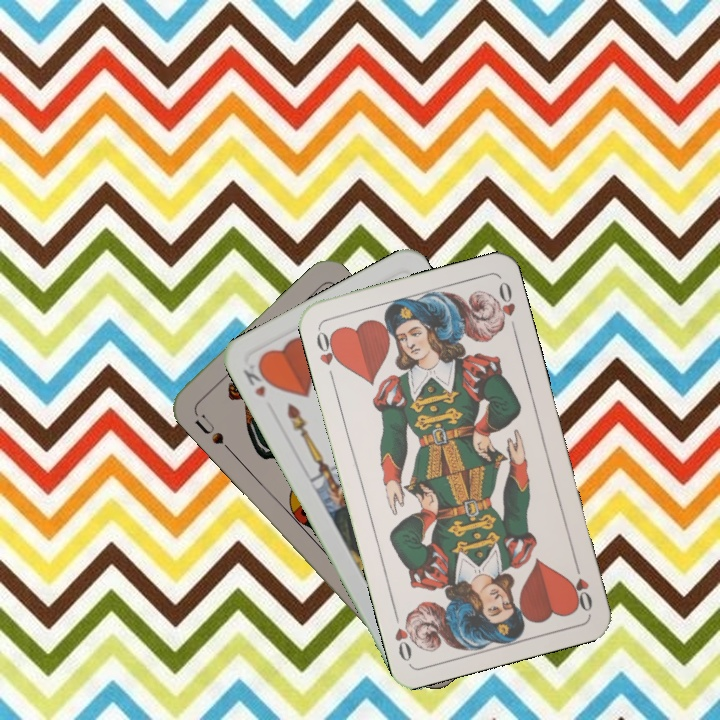HK: (239, 358, 275, 401)
HO: (312, 325, 343, 383), (566, 557, 595, 614)
SU: (191, 410, 235, 455)
